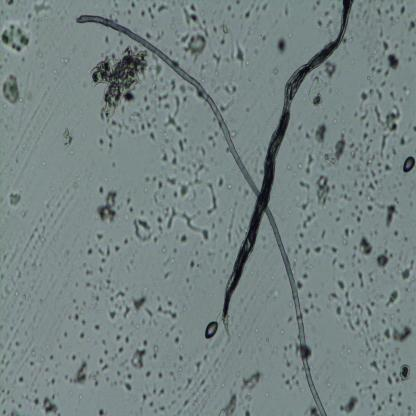Air bubble: (204, 322, 220, 338), (401, 156, 416, 173)
Background material: (74, 13, 329, 416), (86, 46, 151, 123), (166, 198, 206, 240), (163, 95, 187, 136), (1, 23, 29, 52), (99, 188, 122, 223), (182, 6, 209, 35), (181, 29, 207, 59), (105, 115, 143, 135), (0, 71, 21, 107), (128, 337, 150, 370), (146, 304, 178, 325), (356, 300, 373, 338), (108, 293, 130, 321), (178, 175, 200, 203), (226, 37, 247, 66), (316, 174, 332, 210), (215, 391, 238, 416), (240, 368, 263, 393), (308, 74, 325, 105), (386, 102, 403, 132), (297, 176, 312, 210), (191, 145, 206, 178), (397, 120, 416, 146), (336, 395, 359, 416), (132, 219, 156, 239), (72, 362, 92, 386), (226, 198, 236, 245), (383, 203, 399, 230), (244, 2, 270, 18), (98, 245, 112, 274), (328, 292, 344, 317), (313, 126, 331, 148), (401, 256, 416, 280), (152, 94, 172, 112), (392, 322, 412, 340), (377, 249, 394, 270), (176, 377, 193, 398), (44, 394, 60, 416), (280, 374, 302, 389), (206, 181, 216, 214), (345, 309, 358, 334), (363, 122, 374, 151), (373, 104, 386, 128), (384, 288, 400, 307), (333, 137, 345, 162), (162, 245, 177, 265), (104, 128, 116, 153), (284, 343, 297, 366), (349, 201, 363, 222), (35, 221, 47, 245), (325, 58, 337, 82), (132, 293, 150, 309), (106, 0, 119, 22), (360, 235, 373, 257), (60, 126, 73, 148), (380, 132, 390, 160), (169, 144, 179, 172), (177, 135, 190, 156), (37, 0, 56, 14), (101, 275, 115, 294), (359, 101, 370, 124), (362, 152, 374, 173), (387, 51, 401, 69), (70, 298, 80, 322), (341, 226, 355, 243), (210, 49, 221, 70), (160, 141, 169, 166), (363, 336, 374, 356), (152, 60, 164, 78), (140, 94, 152, 112), (301, 305, 322, 315), (12, 261, 22, 282), (158, 212, 168, 233), (9, 191, 23, 205), (358, 88, 371, 103), (304, 403, 319, 416), (220, 99, 235, 112), (305, 212, 318, 227), (146, 0, 156, 19), (150, 386, 167, 397), (358, 385, 372, 398), (122, 90, 136, 103), (198, 63, 211, 77), (362, 8, 372, 26), (141, 117, 153, 132), (401, 365, 411, 383), (91, 229, 105, 241), (310, 244, 324, 256), (158, 73, 168, 89), (373, 290, 386, 302), (404, 277, 415, 291), (155, 28, 165, 43), (382, 352, 390, 370), (357, 270, 365, 288), (371, 169, 380, 185), (385, 3, 396, 16), (175, 232, 189, 242), (158, 2, 168, 16), (278, 36, 286, 53), (208, 128, 216, 145), (126, 0, 135, 15), (162, 269, 174, 280), (128, 319, 139, 331), (92, 369, 98, 391), (96, 135, 106, 148), (375, 88, 384, 102), (144, 173, 158, 182), (101, 356, 108, 374), (225, 84, 236, 95), (409, 178, 415, 198), (381, 38, 391, 50), (336, 278, 346, 290), (124, 381, 134, 393), (345, 289, 351, 308), (374, 344, 382, 358), (151, 343, 159, 357), (368, 272, 376, 286), (376, 161, 384, 175), (375, 52, 385, 63), (366, 195, 378, 204), (407, 20, 416, 32), (148, 131, 157, 143), (405, 404, 414, 416), (402, 84, 411, 96), (378, 22, 385, 37), (384, 164, 394, 174), (217, 34, 227, 44), (389, 16, 400, 25), (158, 178, 165, 192), (170, 78, 177, 92), (102, 33, 110, 45), (371, 360, 379, 372), (294, 242, 302, 254), (194, 358, 202, 370), (307, 290, 319, 298), (320, 227, 327, 240), (8, 409, 21, 416), (352, 244, 357, 262), (152, 235, 160, 246), (408, 50, 416, 61), (242, 405, 250, 416), (376, 402, 387, 410), (306, 153, 314, 164), (167, 296, 175, 307), (389, 90, 396, 102), (297, 120, 304, 132), (384, 328, 391, 340), (169, 18, 176, 30), (2, 0, 16, 6), (60, 53, 67, 65), (358, 141, 364, 155), (393, 370, 400, 382), (174, 336, 182, 346), (63, 376, 73, 384), (316, 18, 324, 28), (99, 406, 107, 416), (374, 332, 382, 342), (331, 245, 341, 253), (304, 260, 312, 270), (354, 163, 362, 173), (126, 371, 133, 382), (336, 210, 343, 221), (113, 243, 121, 252), (359, 345, 365, 357), (158, 405, 167, 413), (326, 18, 335, 26), (221, 22, 227, 34), (377, 202, 386, 210), (139, 9, 147, 18), (144, 32, 153, 40), (78, 316, 85, 326), (285, 4, 290, 18), (169, 177, 176, 187), (370, 378, 380, 385), (400, 5, 407, 15), (96, 296, 102, 307), (403, 233, 409, 244), (369, 87, 375, 98), (367, 56, 373, 67), (365, 205, 376, 211), (372, 390, 377, 403), (344, 194, 352, 202), (174, 30, 182, 38), (92, 322, 100, 330), (17, 375, 24, 384), (384, 68, 391, 77), (192, 250, 201, 257), (261, 33, 268, 42), (71, 353, 78, 362), (392, 144, 397, 156), (297, 278, 302, 290), (354, 380, 360, 390), (306, 166, 312, 176), (388, 394, 394, 404), (141, 393, 147, 403), (377, 8, 383, 18), (189, 258, 195, 268), (124, 334, 130, 344), (180, 400, 190, 406), (342, 38, 349, 46), (394, 196, 401, 204), (393, 42, 400, 50), (305, 132, 312, 140), (397, 390, 404, 398), (173, 38, 180, 46), (48, 353, 56, 360), (100, 338, 107, 346), (232, 129, 237, 140), (35, 395, 40, 406), (369, 181, 375, 190), (312, 0, 318, 9), (350, 149, 356, 158), (115, 368, 121, 377), (411, 39, 416, 49), (388, 375, 393, 385), (244, 104, 249, 114), (222, 252, 229, 259), (128, 206, 135, 213), (227, 4, 234, 11), (357, 190, 364, 197), (78, 332, 84, 340), (178, 352, 184, 360), (146, 370, 152, 378), (393, 229, 399, 237), (330, 184, 336, 192), (211, 234, 219, 240), (172, 372, 178, 380), (349, 140, 355, 148), (211, 28, 219, 34), (306, 247, 312, 255), (304, 272, 310, 280), (172, 191, 178, 199), (214, 88, 222, 94), (88, 248, 94, 256), (338, 263, 346, 269), (375, 68, 383, 74), (119, 344, 123, 355), (126, 196, 132, 203), (117, 333, 123, 340), (350, 283, 357, 289), (364, 133, 370, 140), (211, 270, 218, 276), (180, 85, 186, 92), (186, 275, 192, 282), (332, 256, 336, 266), (382, 318, 387, 326), (349, 36, 354, 44), (382, 79, 387, 87), (28, 92, 33, 100), (392, 358, 397, 366), (298, 162, 303, 170), (31, 350, 36, 358), (325, 9, 330, 17), (346, 165, 352, 171), (398, 97, 404, 103), (86, 353, 92, 359), (273, 65, 277, 74), (372, 301, 378, 307), (362, 180, 366, 188), (3, 407, 7, 415), (358, 361, 362, 369), (220, 178, 224, 186), (150, 400, 154, 408), (410, 199, 414, 207), (124, 238, 128, 246), (18, 401, 22, 409), (396, 401, 401, 407), (159, 373, 164, 379), (104, 348, 108, 355), (120, 324, 124, 331), (347, 346, 351, 353), (398, 268, 402, 275), (300, 233, 305, 238), (38, 299, 43, 304), (99, 188, 104, 193), (379, 62, 384, 67), (52, 378, 55, 386), (356, 146, 360, 152), (328, 380, 331, 388), (2, 396, 6, 402), (236, 0, 240, 6), (396, 348, 400, 354), (29, 360, 35, 364), (404, 56, 408, 62), (366, 174, 370, 180), (355, 111, 358, 118), (340, 350, 344, 355), (334, 119, 338, 124), (372, 411, 376, 416), (372, 67, 376, 72), (364, 192, 368, 196), (400, 0, 404, 4), (390, 82, 393, 87), (314, 343, 316, 350), (374, 50, 376, 56), (367, 76, 370, 80), (414, 391, 416, 396), (362, 174, 364, 178), (387, 155, 389, 159)
Cellulose filter fibre: (220, 0, 359, 338)
